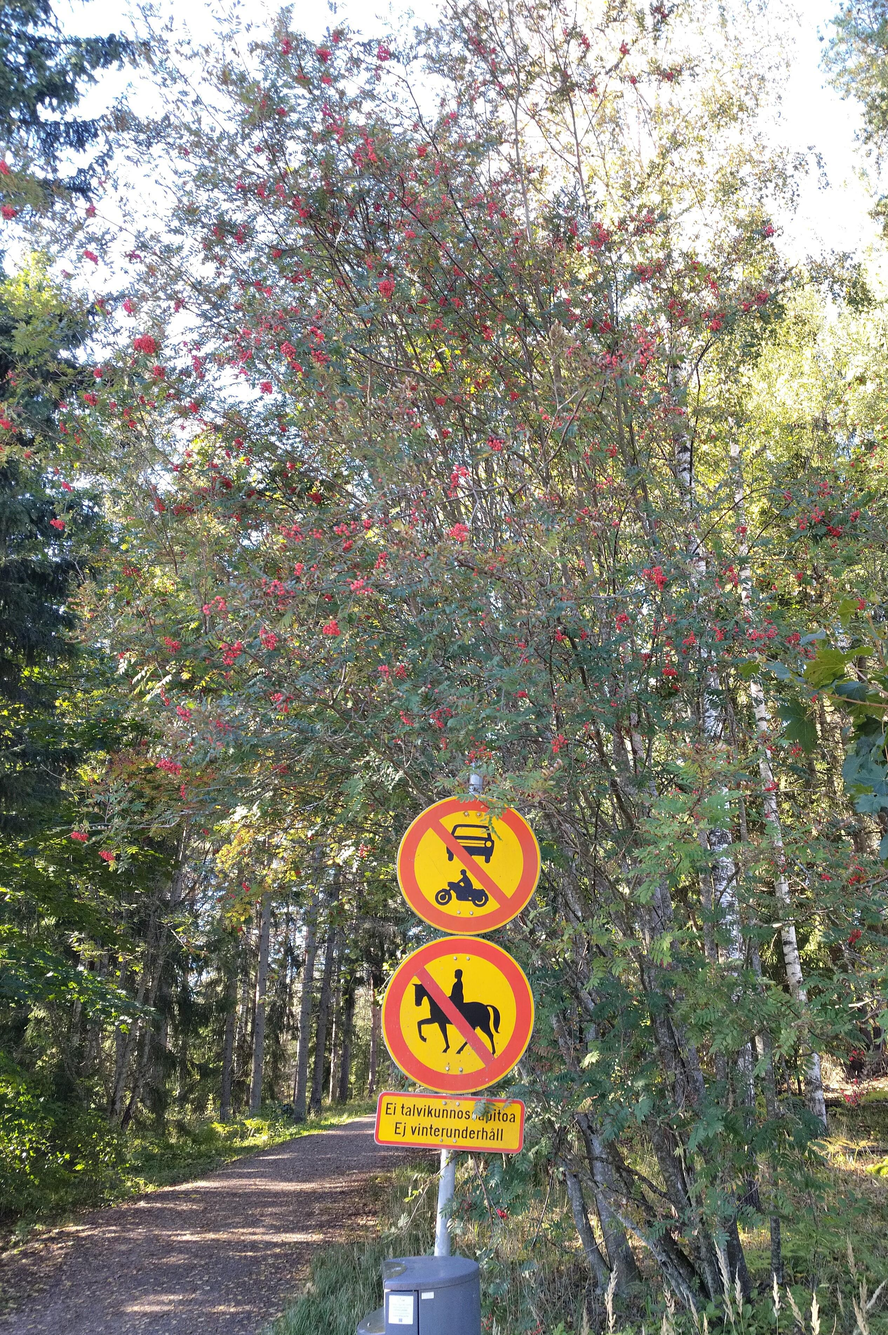Rowan: (96, 71, 733, 767), (507, 282, 714, 1321)
